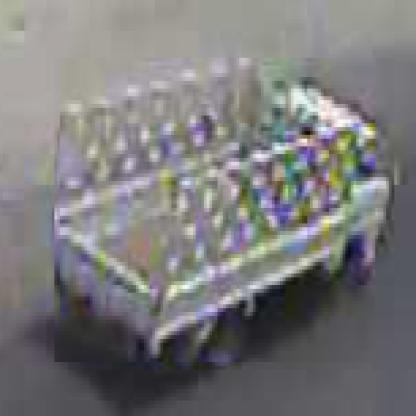truck: (53, 59, 395, 367)
